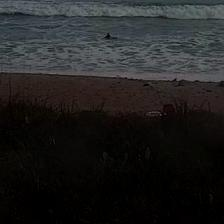surfer: (104, 33, 118, 39)
